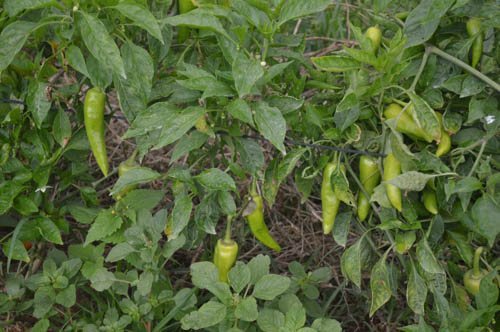ChiliPepper: (77, 82, 119, 183), (311, 158, 348, 239), (240, 196, 286, 256), (382, 104, 436, 151), (353, 155, 380, 229), (209, 230, 244, 287), (379, 150, 409, 216), (460, 14, 488, 73), (430, 108, 456, 161), (459, 267, 493, 306), (173, 1, 199, 52), (360, 20, 385, 60)
